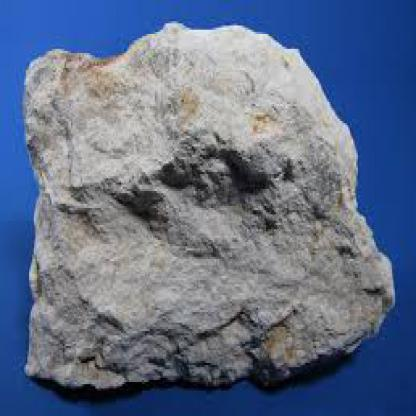Sedimentary_Chalk: (20, 6, 398, 384)
